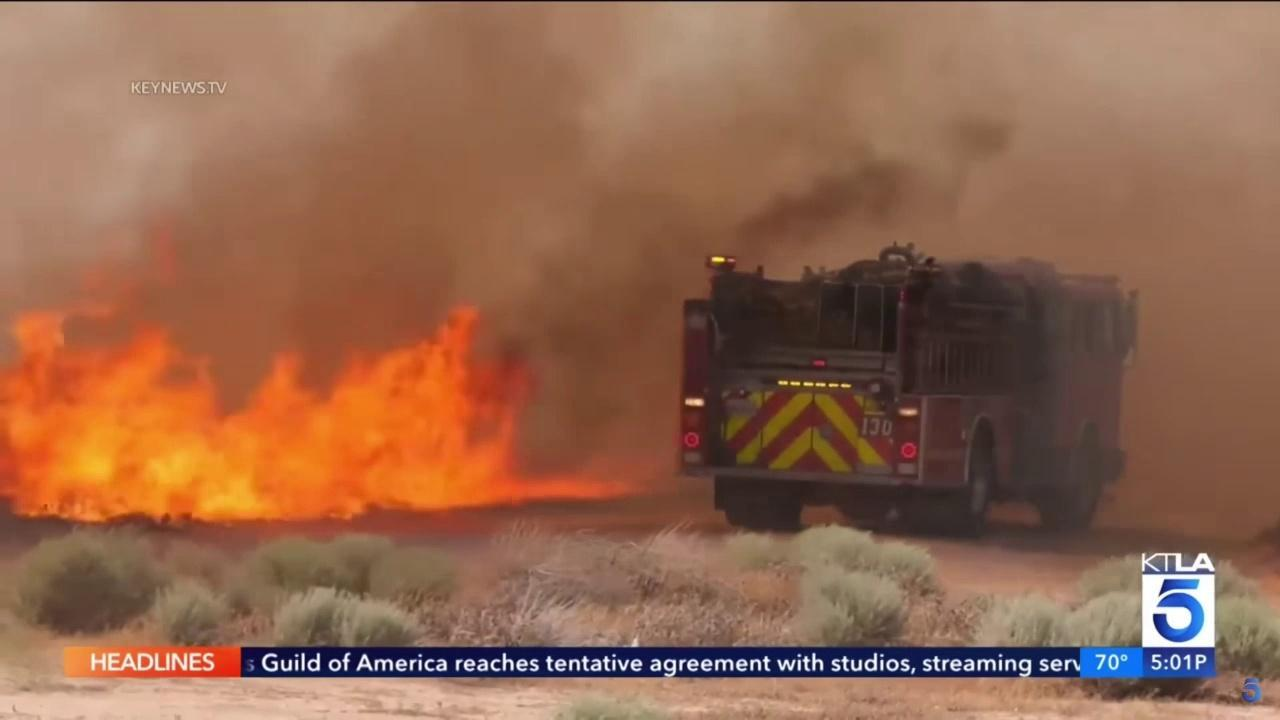fire: (2, 220, 678, 523)
smoke: (0, 0, 1280, 546)
